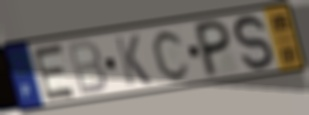B: (65, 39, 109, 98)
C: (151, 28, 193, 83)
E: (30, 41, 79, 103)
K: (112, 33, 154, 88)
P: (194, 18, 232, 81)
S: (232, 13, 276, 75)
